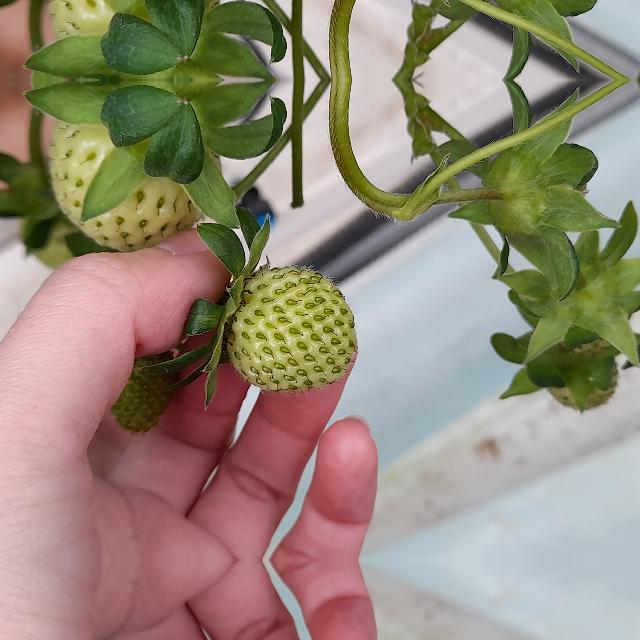Health_25: (43, 80, 225, 252), (226, 266, 356, 392), (43, 0, 225, 80)
